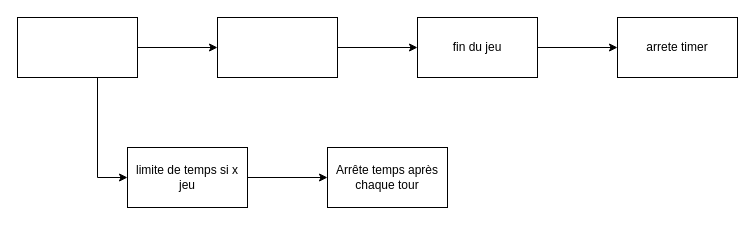
Image size: 755x225. Some labels were removed from this diagram. The box of each missing label's shape, as (x1, y1, x2, y2) in pixels:
Début du jeu: (16, 16, 138, 78)
début timer: (216, 16, 338, 78)
